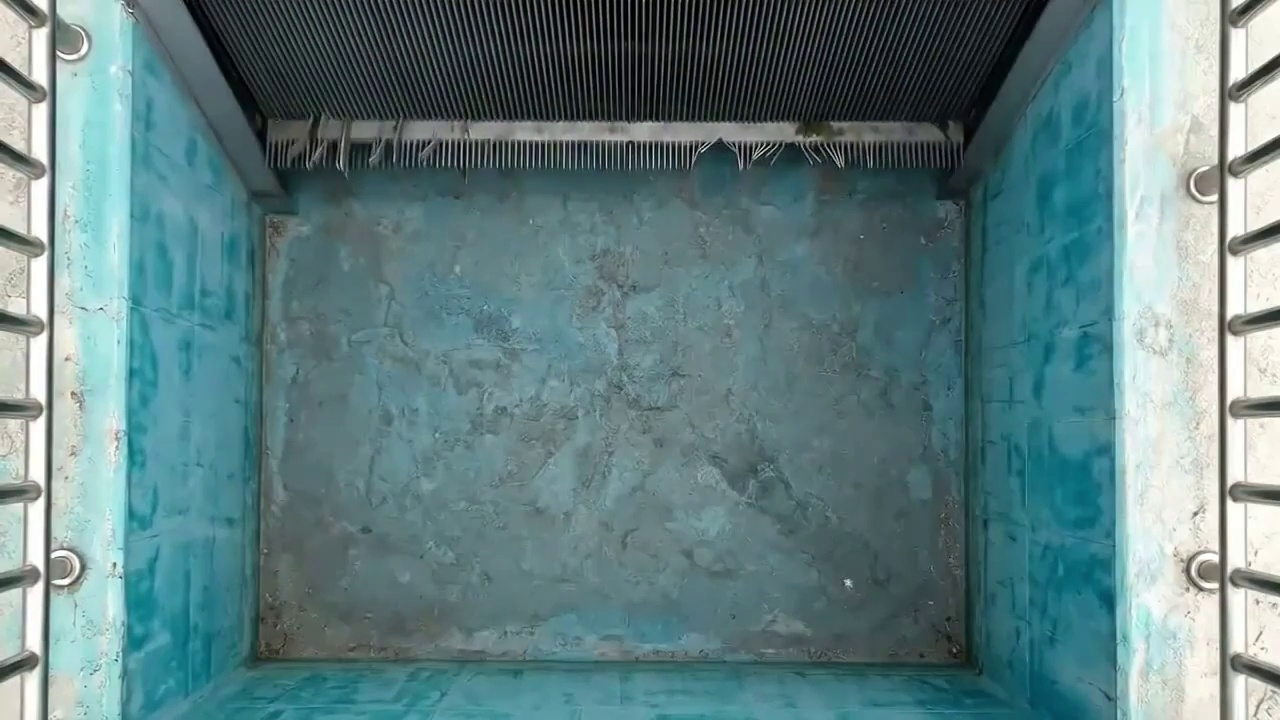damage: (267, 117, 488, 180), (686, 117, 855, 176)
